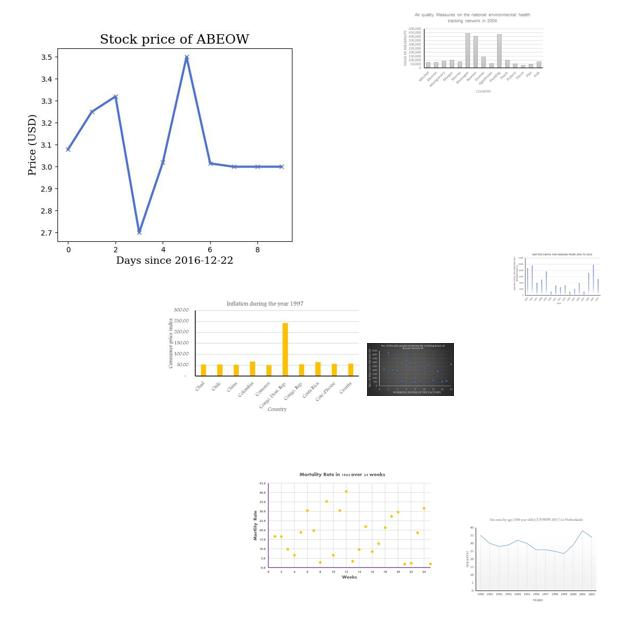Graph: (3, 18, 338, 269), (167, 298, 362, 413), (251, 470, 435, 581), (399, 10, 546, 95), (463, 515, 598, 604), (512, 252, 602, 305), (367, 343, 454, 396)
